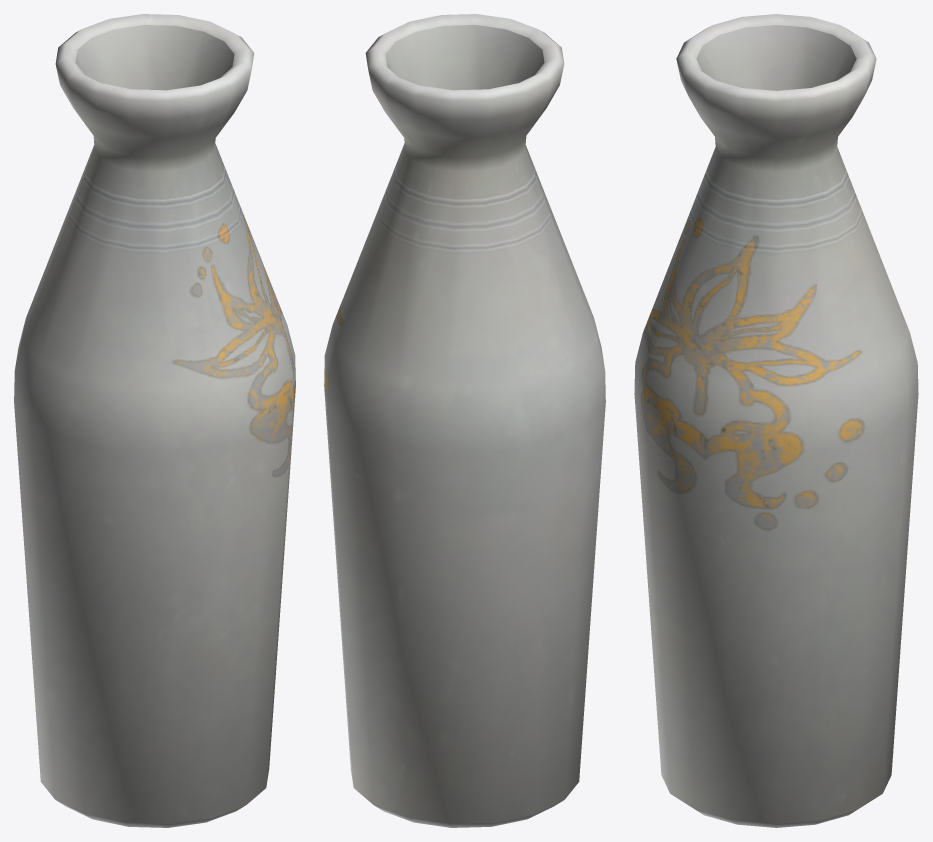
Rendered from Weapon Flagon.glb.
The picture shows the model from 3 angles, left to right: view 1: azimuth 30°, elevation 25°; view 2: azimuth 150°, elevation 25°; view 3: azimuth 270°, elevation 25°; orthographic projection.
Visible parts, largest first — view 1: weapon_jin_Flagon_LOD0; view 2: weapon_jin_Flagon_LOD0; view 3: weapon_jin_Flagon_LOD0.
Part boxes in pixels (left/top/right/bottom): weapon_jin_Flagon_LOD0: left=14, top=14, right=295, bottom=827; weapon_jin_Flagon_LOD0: left=324, top=14, right=605, bottom=827; weapon_jin_Flagon_LOD0: left=634, top=14, right=918, bottom=827.
Size of the model in its own units: 0.0556 by 0.1581 by 0.0556.
Materials: 1 (1 with a texture image).
